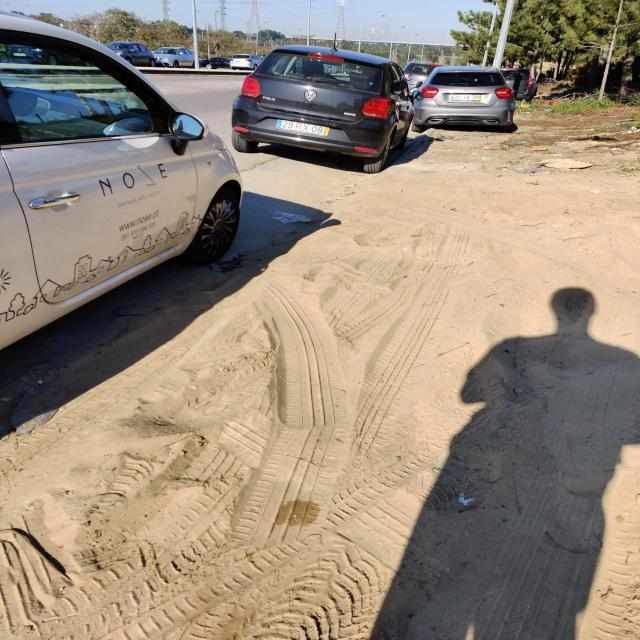litter: (1, 61, 11, 70), (43, 33, 50, 36)
